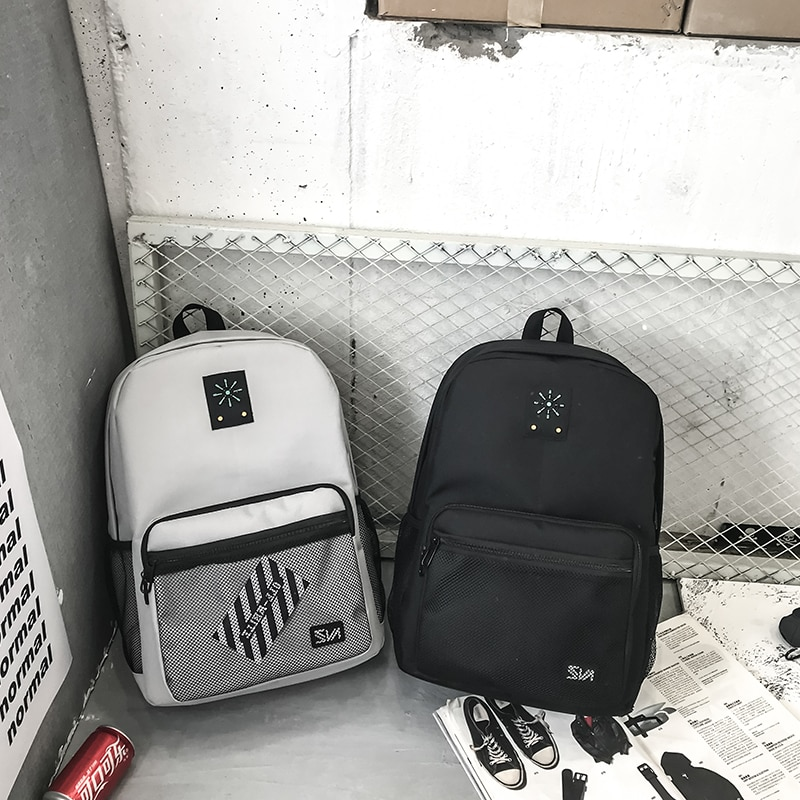Men's Backpacks: (387, 303, 670, 722), (98, 303, 383, 710)
